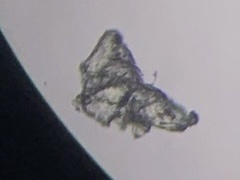microplastic: (71, 28, 201, 144)
